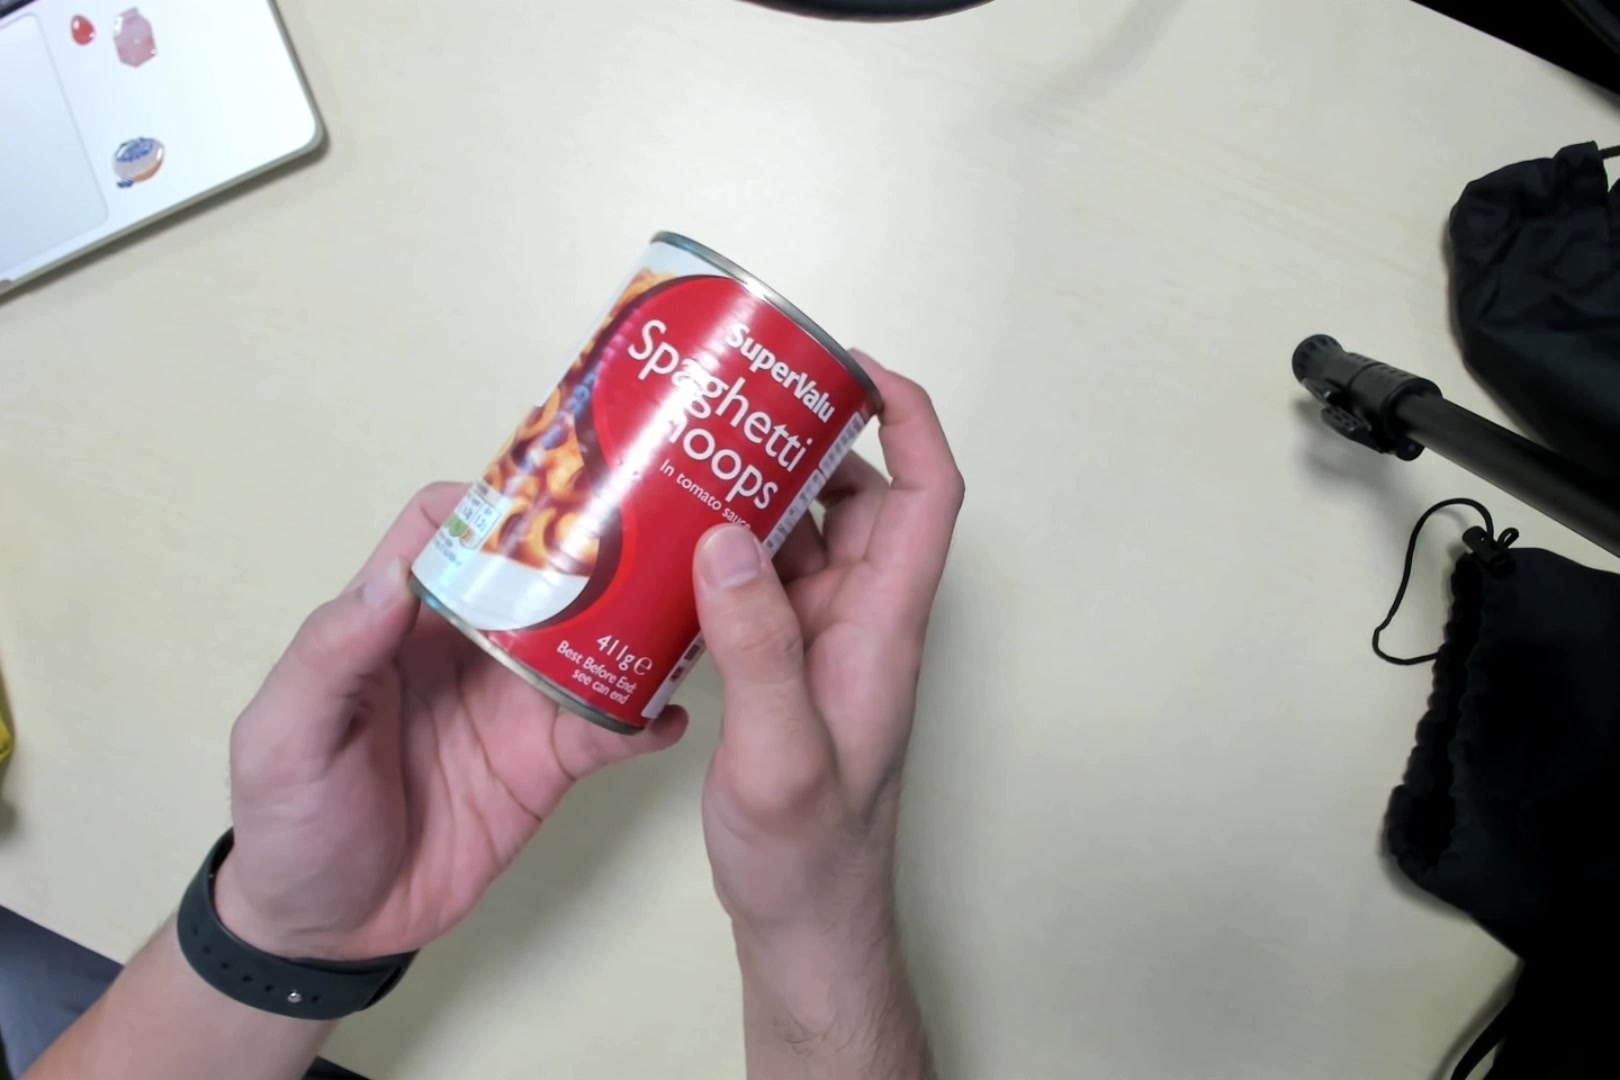InstantMeals_400-499g_NonHalal_NonHealthy: (423, 225, 887, 749)
